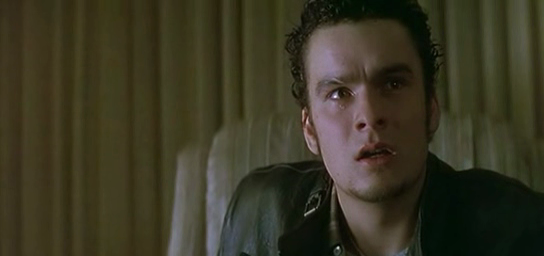cu: (1, 1, 544, 256)
face: (307, 23, 425, 203)
person: (216, 1, 544, 256)
